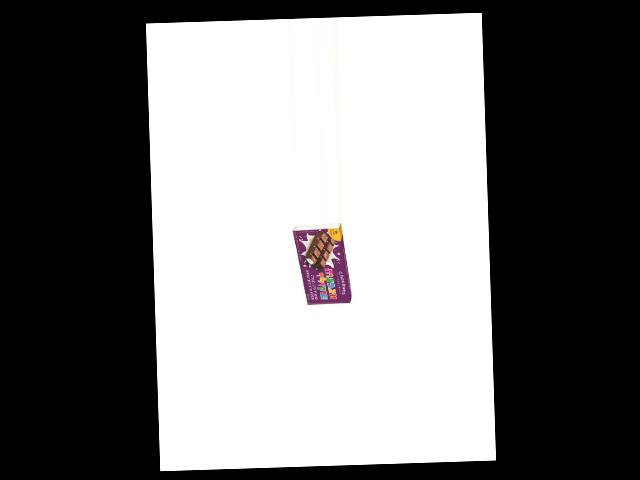chocolate: (296, 221, 351, 310)
